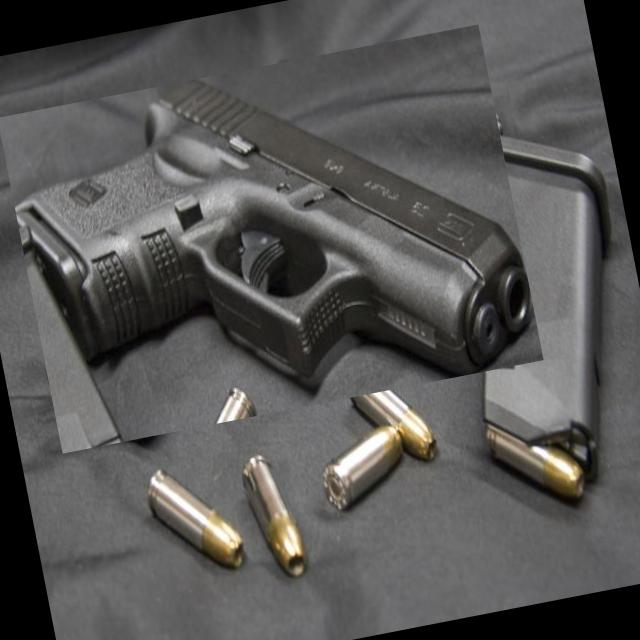Gun: (16, 80, 531, 382)
